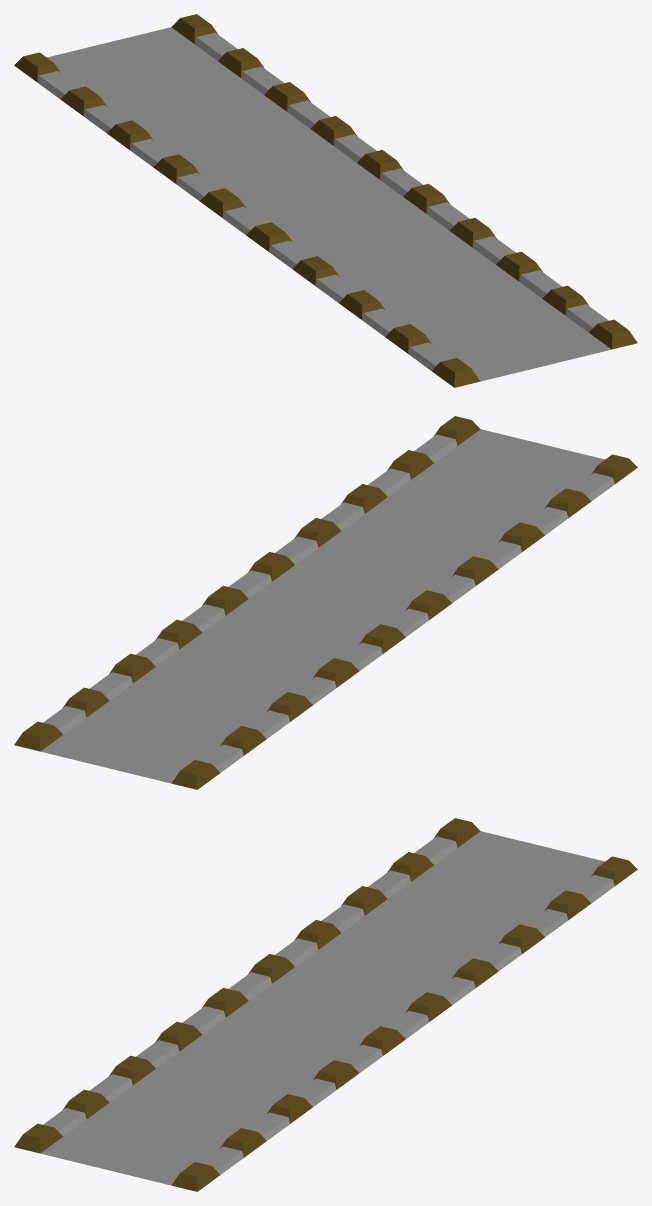
Rendered from Path.fbx.
The picture shows the model from 3 angles, top to bottom: view 1: azimuth 30°, elevation 25°; view 2: azimuth 150°, elevation 25°; view 3: azimuth 330°, elevation 25°; orthographic projection.
Parts seen in each view (by area): view 1: Plane.001; view 2: Plane.001; view 3: Plane.001.
Part boxes in pixels (x1,y1,x2,y2): Plane.001: (14,14,637,387); Plane.001: (14,416,637,789); Plane.001: (14,818,637,1191).
Bounding box in the file's own units: 872 × 49.76 × 3627.
